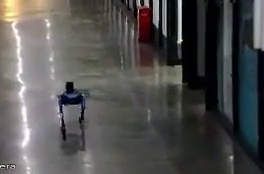robot dog: (56, 81, 91, 142)
